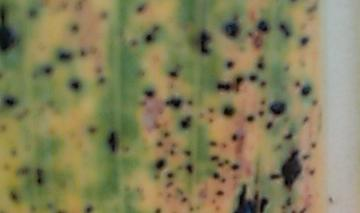tarspot: (281, 147, 301, 192), (1, 4, 18, 55), (233, 184, 259, 213), (199, 32, 212, 55), (108, 129, 120, 152), (224, 22, 240, 39), (271, 100, 286, 117), (278, 22, 291, 37), (17, 107, 30, 122), (166, 96, 182, 108), (35, 165, 45, 184), (257, 18, 269, 33), (58, 50, 72, 62), (223, 104, 236, 116), (69, 78, 80, 92), (7, 188, 18, 202), (181, 115, 192, 129), (306, 3, 318, 15), (26, 6, 37, 19), (5, 97, 19, 107), (259, 199, 269, 213), (300, 85, 312, 96), (42, 65, 53, 76), (299, 35, 310, 46), (175, 185, 186, 196), (235, 76, 243, 91), (151, 117, 161, 129), (268, 173, 282, 181), (155, 158, 165, 169), (309, 96, 319, 107), (19, 166, 31, 175), (83, 204, 95, 213), (28, 204, 40, 213), (208, 138, 218, 148), (9, 147, 19, 157), (231, 13, 241, 23), (143, 33, 152, 44), (143, 88, 154, 97), (214, 188, 225, 197), (151, 172, 162, 181), (218, 83, 232, 90), (167, 70, 179, 78), (284, 195, 292, 207), (308, 139, 317, 149), (130, 38, 139, 48), (76, 1, 85, 11), (211, 171, 222, 179), (89, 125, 98, 134), (152, 24, 161, 33), (99, 10, 108, 19), (122, 143, 131, 152), (282, 64, 291, 73), (79, 46, 87, 56), (246, 29, 254, 39), (247, 74, 257, 82), (302, 114, 310, 124), (138, 99, 148, 107), (186, 163, 193, 174), (99, 76, 108, 84), (71, 23, 79, 32), (135, 5, 144, 13), (226, 60, 234, 69), (257, 61, 265, 70), (294, 79, 302, 88), (231, 131, 237, 143), (231, 163, 240, 171), (165, 180, 174, 188), (94, 67, 103, 75), (1, 123, 8, 133), (284, 132, 292, 140), (265, 121, 273, 129), (180, 195, 188, 203), (259, 78, 266, 87), (328, 195, 335, 204), (309, 167, 315, 177), (163, 130, 170, 138), (183, 149, 191, 156), (166, 171, 174, 178), (211, 155, 219, 162), (216, 161, 224, 168), (303, 153, 310, 161), (208, 106, 215, 114), (186, 97, 193, 105), (188, 205, 195, 213), (45, 201, 53, 208), (238, 133, 245, 141), (257, 108, 263, 117), (246, 115, 255, 121), (56, 209, 69, 213), (221, 142, 228, 149), (170, 141, 177, 148), (260, 98, 266, 106), (169, 148, 175, 156), (298, 207, 306, 213), (156, 141, 163, 147), (221, 177, 227, 184), (207, 117, 214, 123), (215, 205, 221, 212), (154, 208, 161, 213), (166, 193, 173, 198), (225, 158, 230, 164), (289, 1, 299, 4), (291, 209, 296, 213)
